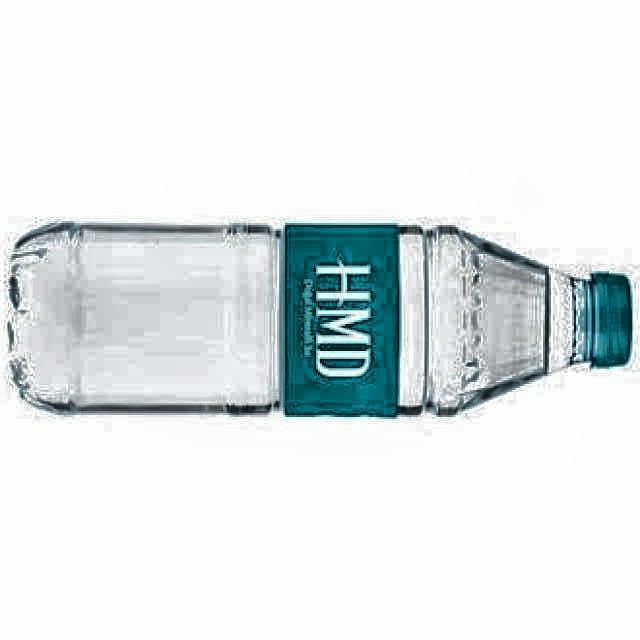plastic: (8, 224, 631, 417)
